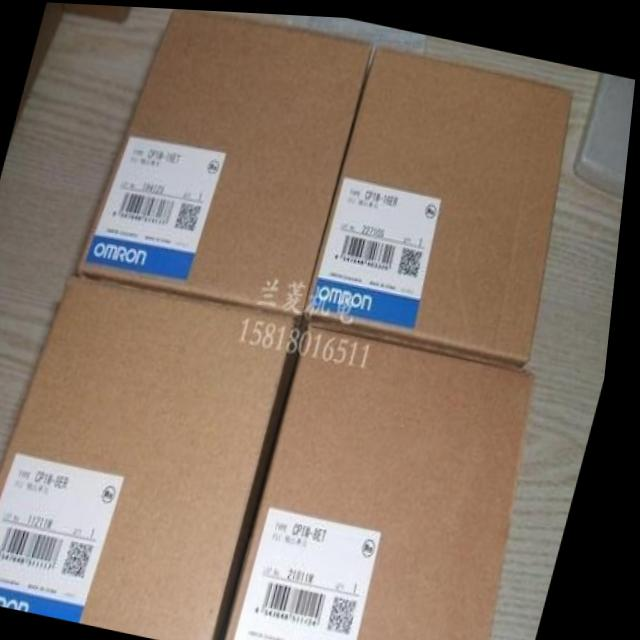box: (0, 268, 311, 640), (234, 313, 543, 640), (82, 7, 373, 314), (310, 40, 574, 362)
